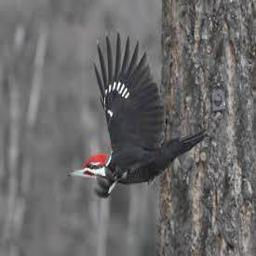Woodpecker: (67, 33, 209, 197)
